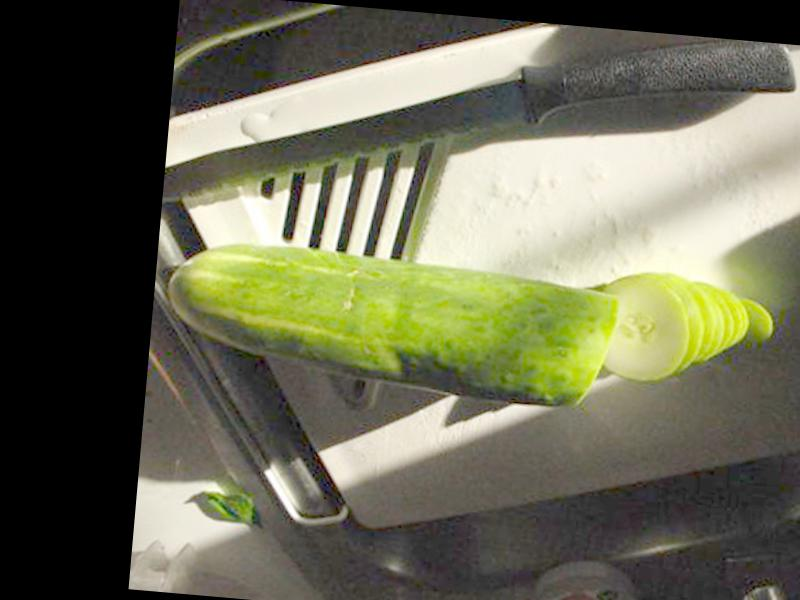Cucumber: (161, 236, 624, 411)
